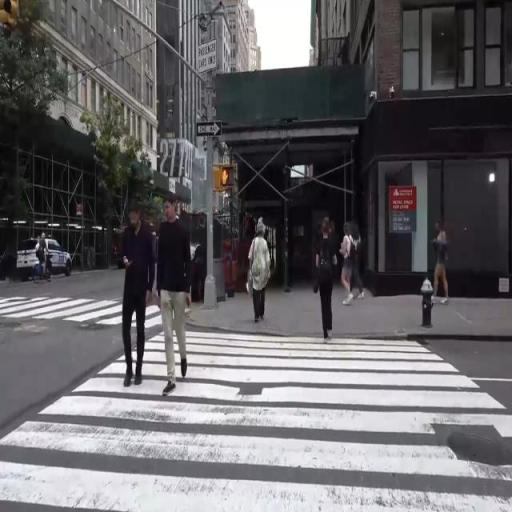person: (152, 192, 191, 394), (120, 205, 151, 387), (247, 218, 272, 339), (316, 215, 337, 344), (344, 225, 369, 316), (431, 220, 458, 301), (351, 217, 366, 305), (32, 233, 53, 283)
